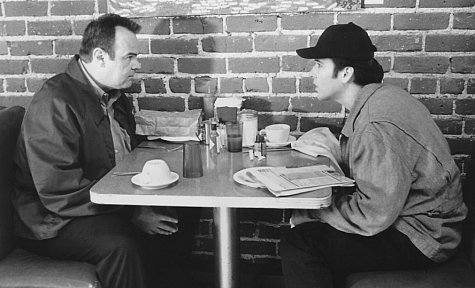23: (302, 41, 347, 106)
37: (95, 24, 145, 98)
Jacket: (310, 80, 472, 262), (12, 50, 152, 247)
Male: (95, 24, 145, 98), (302, 41, 347, 106)
P-Cap: (290, 15, 384, 62)
Pants: (26, 201, 208, 287), (274, 219, 439, 286)
Shirt: (73, 52, 134, 177)
